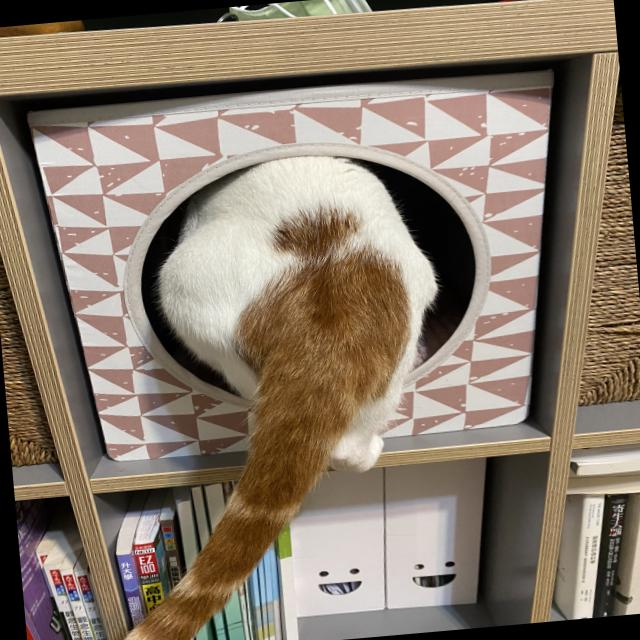cat1: (65, 146, 472, 640)
